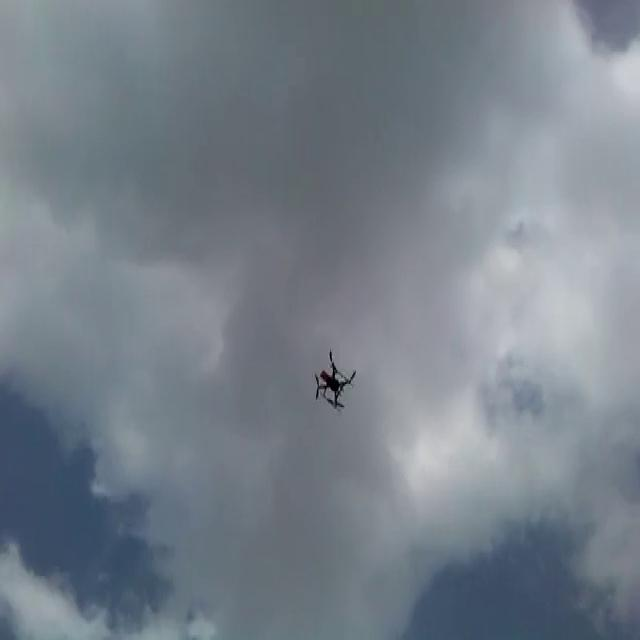drone: (310, 347, 357, 418)
